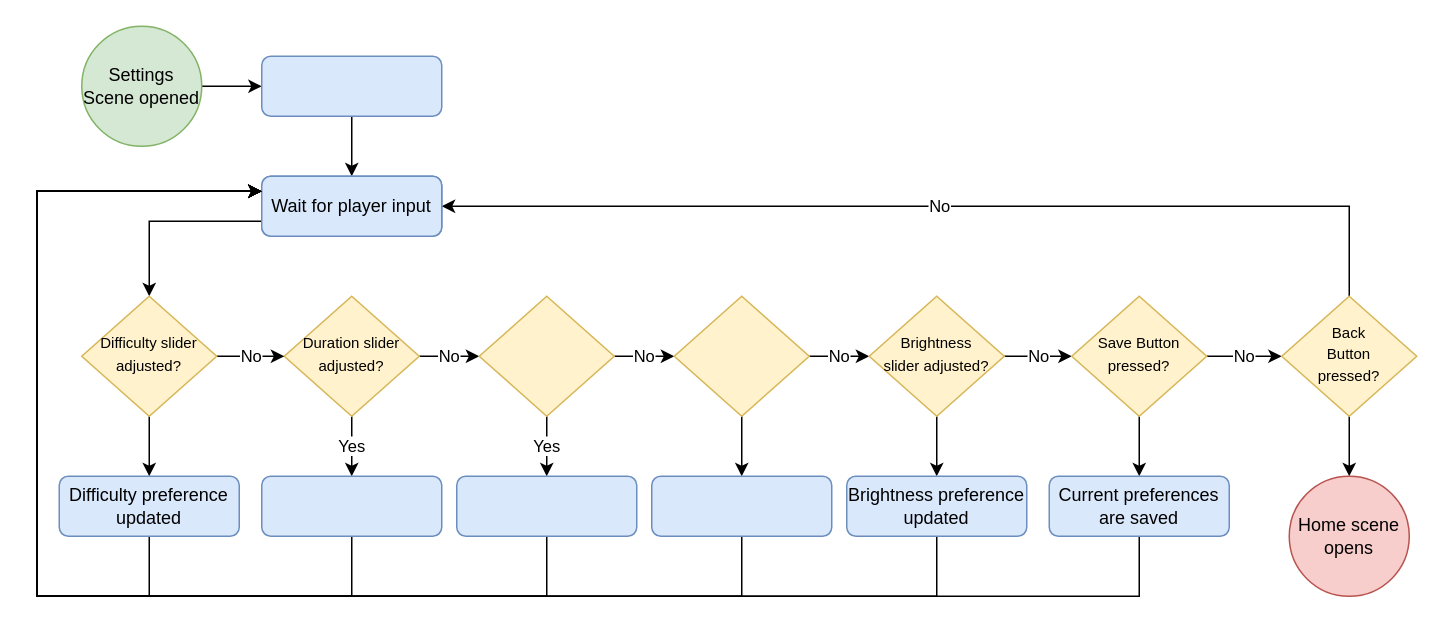
Some shapes in this 1443 by 635 pixel diagram are drawn without their labels. The centre of each missing label's shape, as x and y in pixels:
Duration preference updated: the point at 351,505
Music slider adjusted?: the point at 741,355
Music volume preference updated: the point at 741,505
Setting scene loads existing preferences: the point at 351,85
Sound FX slider adjusted?: the point at 546,355
Sound FX volume preference updated: the point at 546,505
